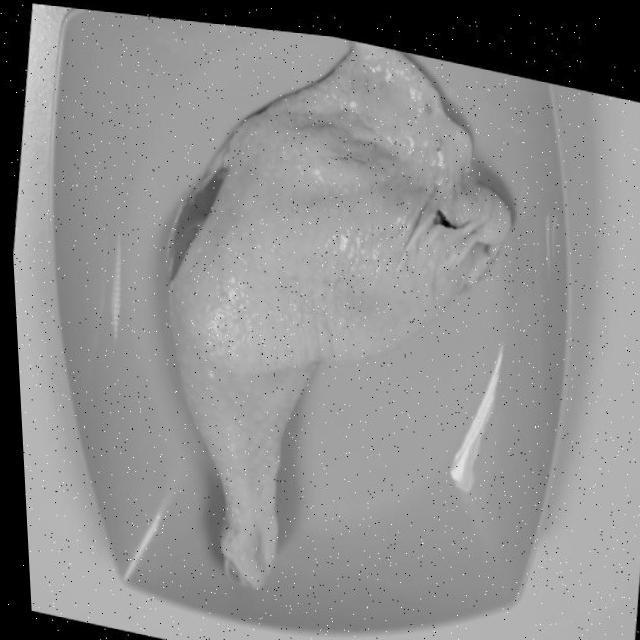quater: (157, 35, 510, 589)
